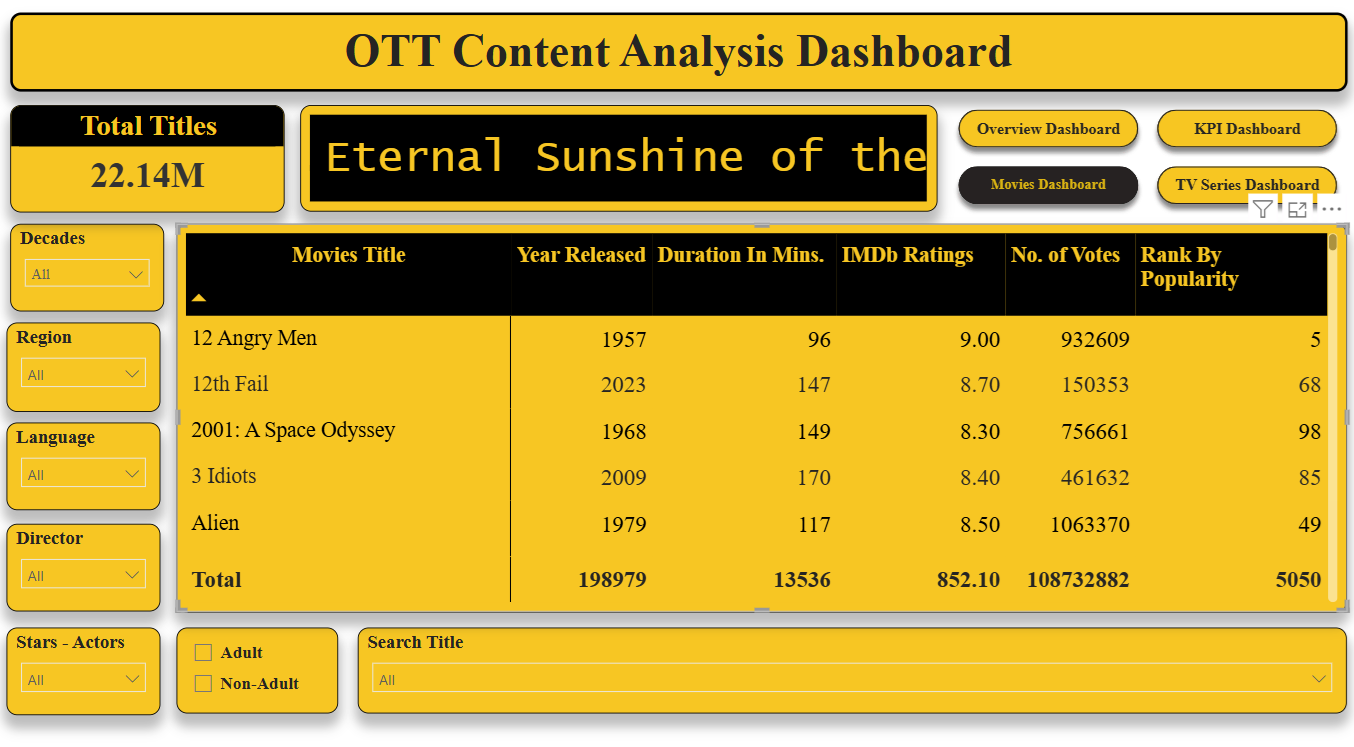

The page's visual inventory and layout, read from the dashboard file:
{"tool":"powerbi","page":{"name":"Movies Dashboard","canvas":[1280,720],"ordinal":2},"visuals":[{"type":"slicer","title":"Decades","fields":{"Values":["final_data_movies.decade"]},"box":[19.6,216.9,143.1,81.3],"z":0},{"type":"slicer","title":"Region","fields":{"Values":["final_data_movies.region"]},"box":[16.6,308.8,143.1,82.8],"z":1000},{"type":"slicer","title":"Language","fields":{"Values":["final_data_movies.language"]},"box":[16.6,402.2,143.1,81.3],"z":2000},{"type":"slicer","title":"Director","fields":{"Values":["final_data_movies.director"]},"box":[16.6,497.1,143.1,81.3],"z":3000},{"type":"slicer","title":"Stars - Actors","fields":{"Values":["final_data_movies.stars"]},"box":[16.3,592.4,143.4,81.7],"z":4000},{"type":"textbox","box":[19.6,21.1,1244.2,73.8],"z":5000},{"type":"pivotTable","fields":{"Rows":["final_data_movies.title"],"Values":["Sum(final_data_movies.year_start)","Sum(final_data_movies.duration_minutes)","Sum(final_data_movies.imdb_rating)","Sum(final_data_movies.vote_count)","Sum(final_data_movies.rank)"]},"box":[174.7,216.9,1089,361.5],"z":6000},{"type":"slicer","title":"Search Title","fields":{"Values":["final_data_movies.title","final_data_movies.synopsis"]},"box":[343.4,593.5,920.3,79.8],"z":7000},{"type":"advanceCardE03760C5AB684758B56AA29F9E6C257B","title":"Total Titles","fields":{"mainMeasure":["Sum(final_data_kpi.total_titles)"]},"box":[19.5,106.8,255.2,100.3],"z":8000},{"type":"ScrollingTextVisual1448795304508","fields":{"Category":["final_data_movies.title"],"Measure Deviation":["Sum(final_data_movies.imdb_rating)"]},"box":[289.1,106.8,592.5,99],"z":9000},{"type":"slicer","fields":{"Values":["final_data_movies.isAdult"]},"box":[174.7,593.5,150.6,79.8],"z":10000},{"type":"pageNavigator","box":[893.3,102.9,371.1,106.8],"z":11000}]}

Visuals, with their boxes in screenshot pixels (x1, y1, x2, y2), scaled from the page's 1280x720 canvas onto the 1354x747 screenshot:
"Decades" slicer: BBox(21, 225, 172, 309)
"Region" slicer: BBox(18, 320, 169, 406)
"Language" slicer: BBox(18, 417, 169, 502)
"Director" slicer: BBox(18, 516, 169, 600)
"Stars - Actors" slicer: BBox(17, 615, 169, 699)
textbox: BBox(21, 22, 1337, 98)
pivotTable - final_data_movies.title x Sum(final_data_movies.year_start): BBox(185, 225, 1337, 600)
"Search Title" slicer: BBox(363, 616, 1337, 699)
"Total Titles" advanceCardE03760C5AB684758B56AA29F9E6C257B: BBox(21, 111, 291, 215)
ScrollingTextVisual1448795304508 - final_data_movies.title x Sum(final_data_movies.imdb_rating): BBox(306, 111, 933, 214)
slicer - final_data_movies.isAdult: BBox(185, 616, 344, 699)
pageNavigator: BBox(945, 107, 1337, 218)
